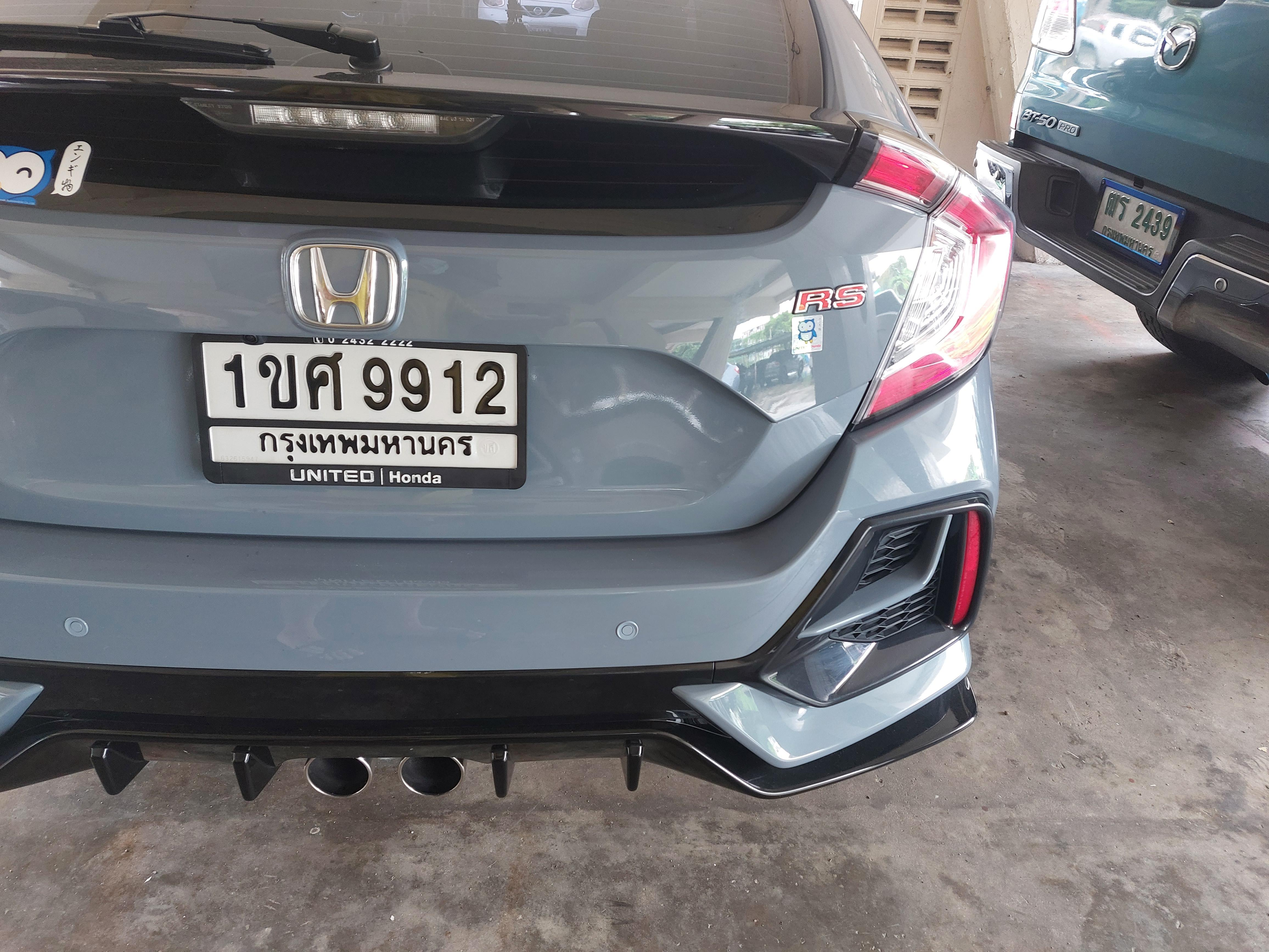license-plate: (193, 331, 529, 489)
